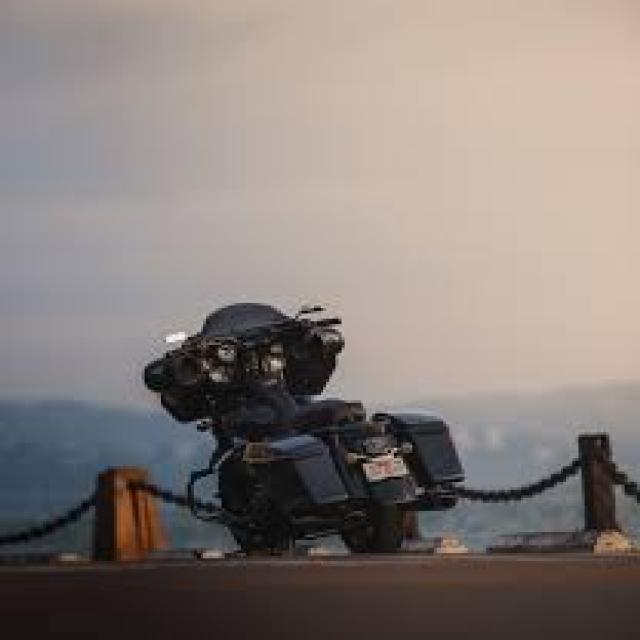MOTORCYCLE: (184, 329, 458, 551)
